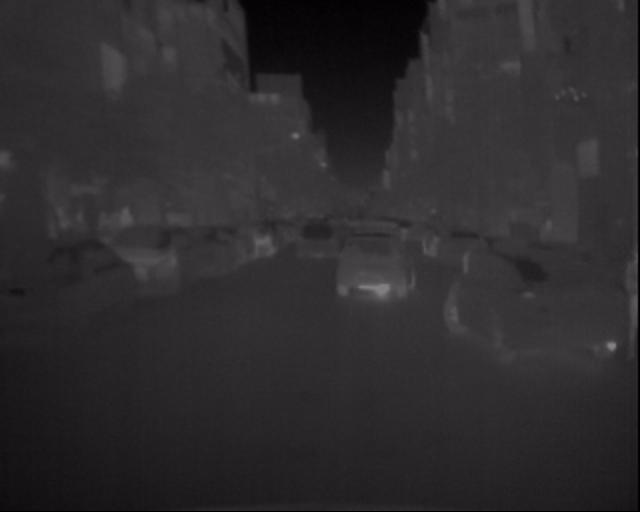person: (34, 192, 148, 242), (535, 206, 564, 268)
